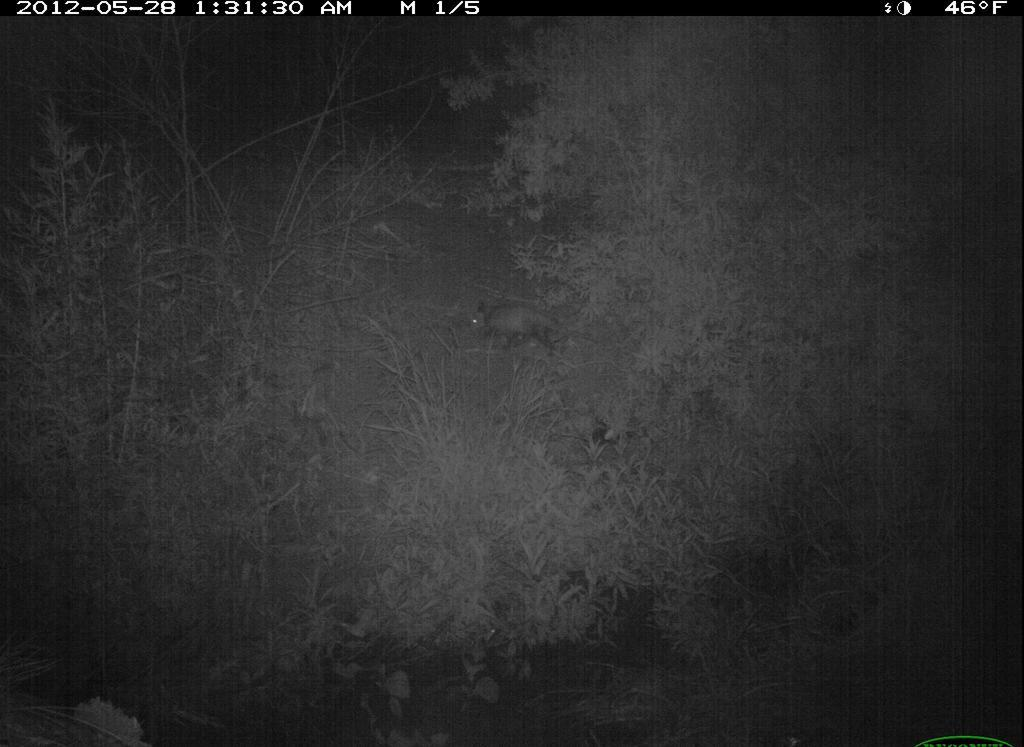opossum: (457, 292, 601, 387)
